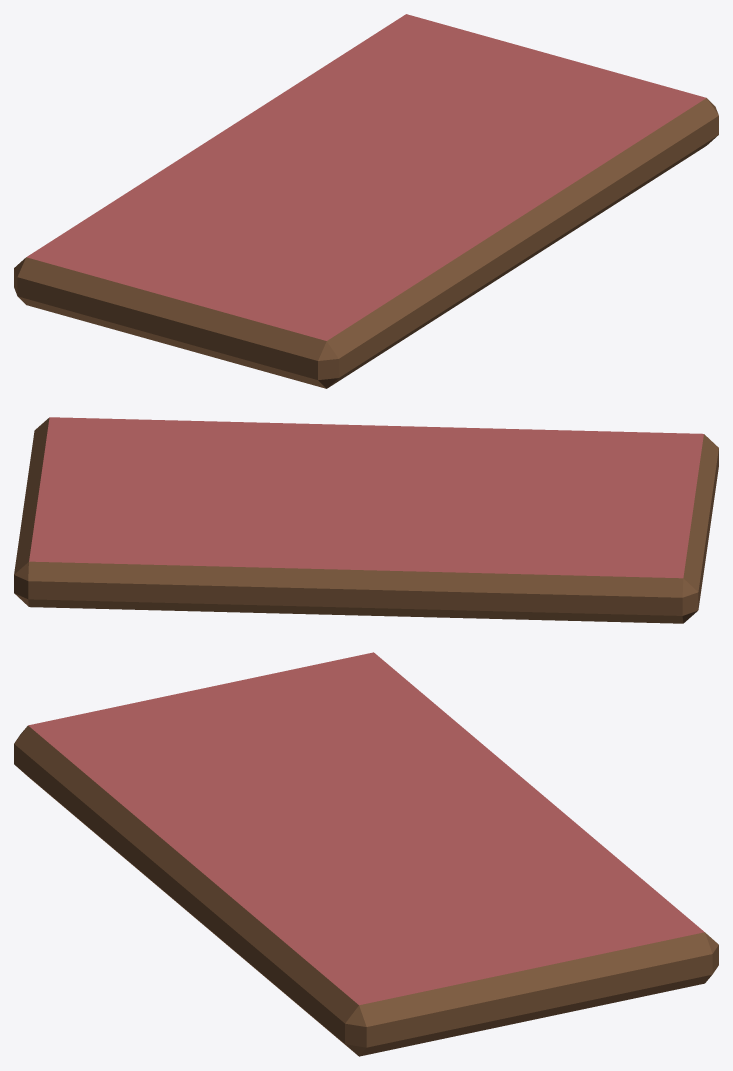
File: Bedroom_Mobile.fbx
3 renders of one model, top to bottom at view 1: azimuth 30°, elevation 25°; view 2: azimuth 150°, elevation 25°; view 3: azimuth 270°, elevation 25°, orthographic. The views are drawn at different scales.
Parts seen in each view (by area): view 1: Bedroom_Mobile; view 2: Bedroom_Mobile; view 3: Bedroom_Mobile.
Boxes of the visible parts, bbox=[...] form: Bedroom_Mobile: bbox=[14, 14, 718, 388]; Bedroom_Mobile: bbox=[14, 417, 718, 623]; Bedroom_Mobile: bbox=[14, 652, 718, 1056].
Bounding box in the file's own units: 37.91 × 2.68 × 30.87.
